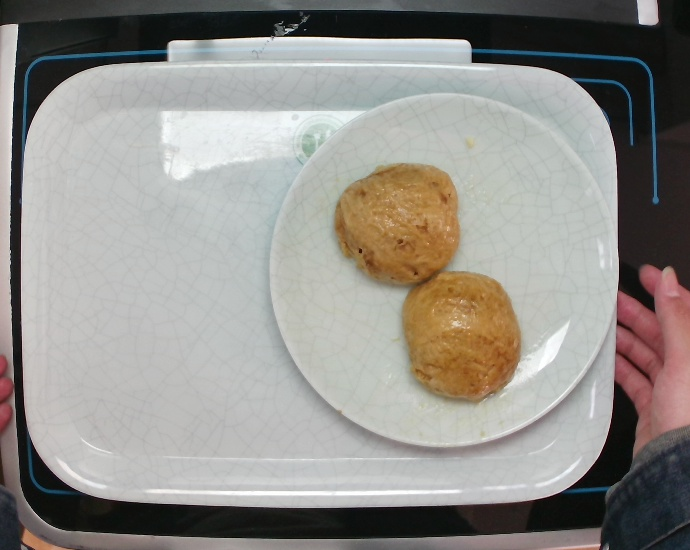JYsf-Da_Yuan_Pan: (262, 88, 631, 461)
